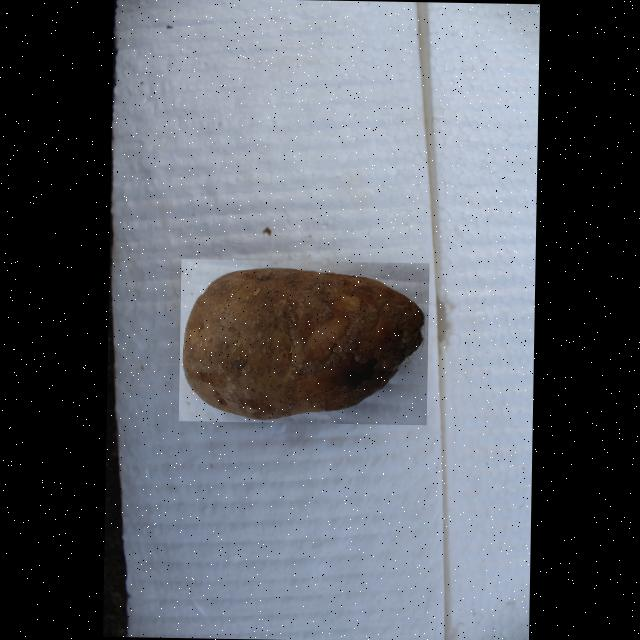Diseased-fungal potato: (177, 258, 428, 424)
